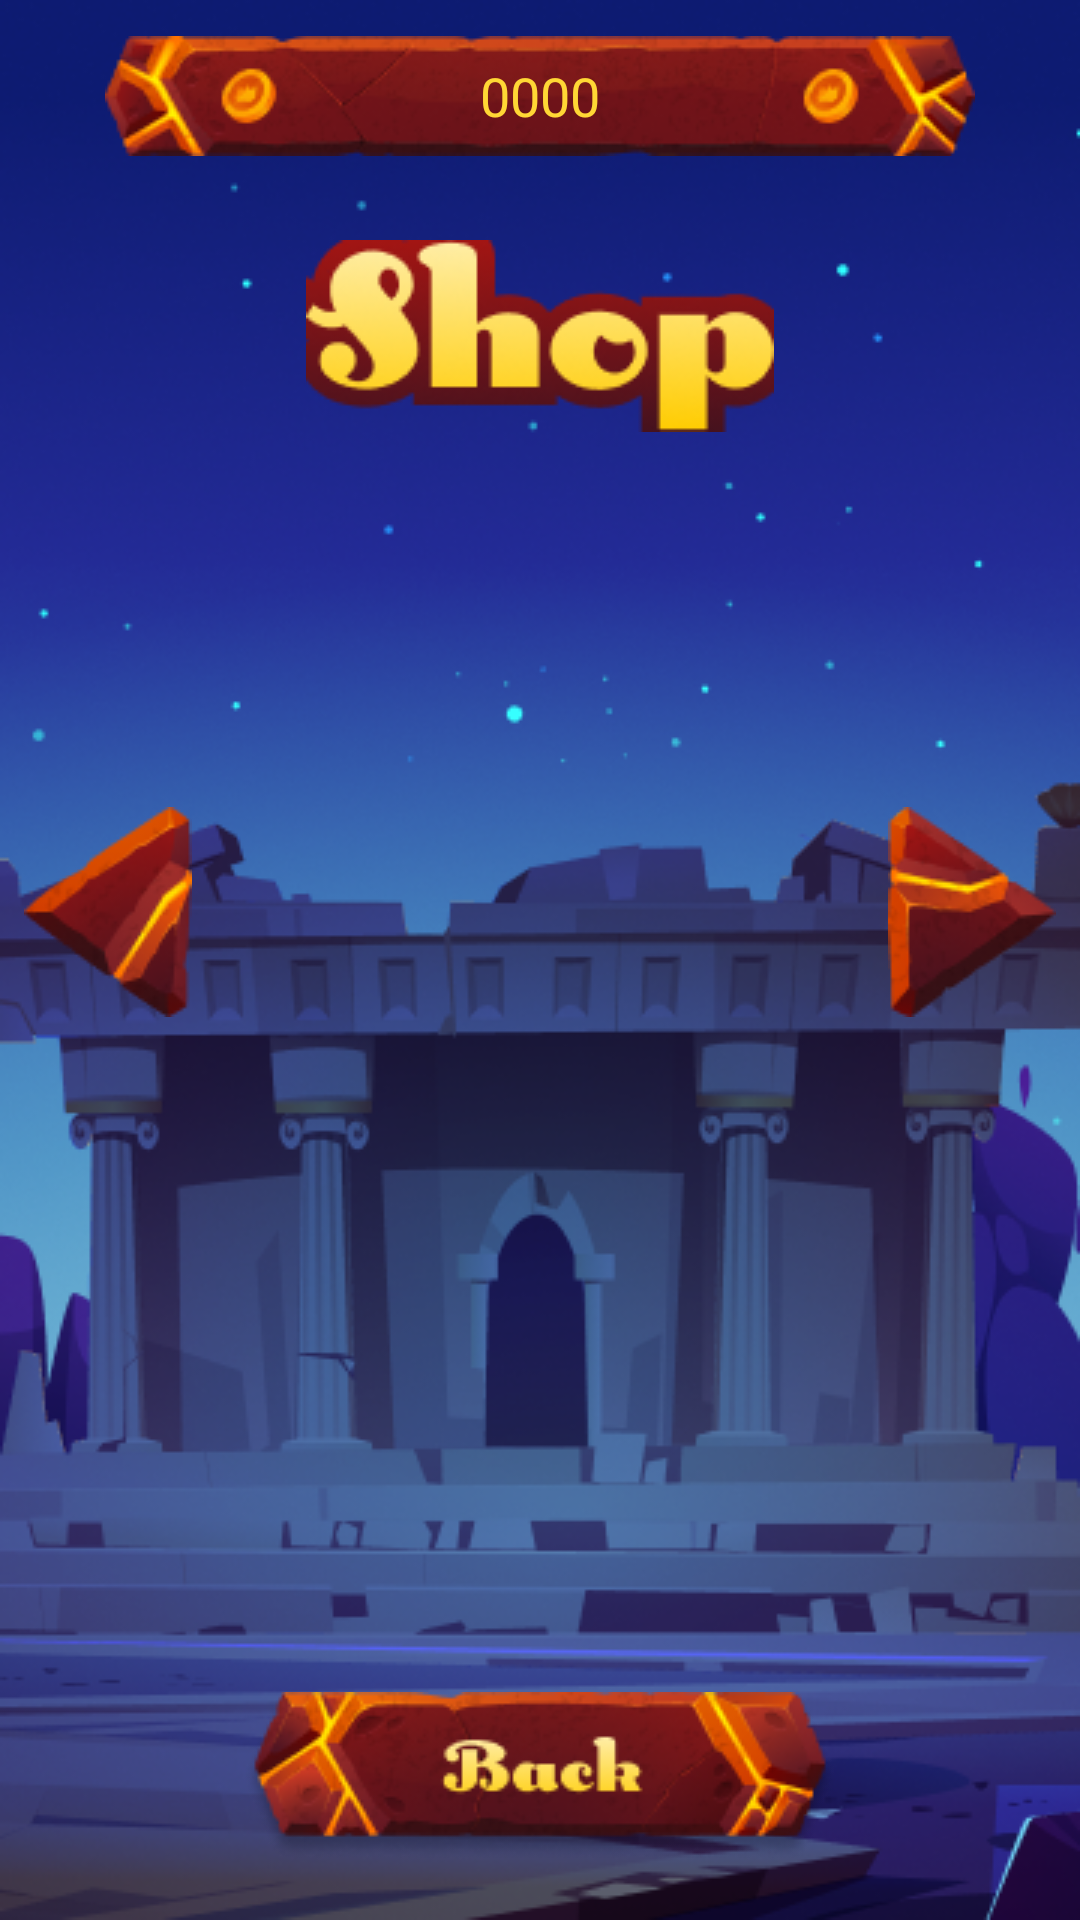

Screen size 1080w x 1920h. Icon name, then its center in pixels as (x=x, y=y):
back arrow: (x=108, y=912)
next arrow: (x=972, y=912)
